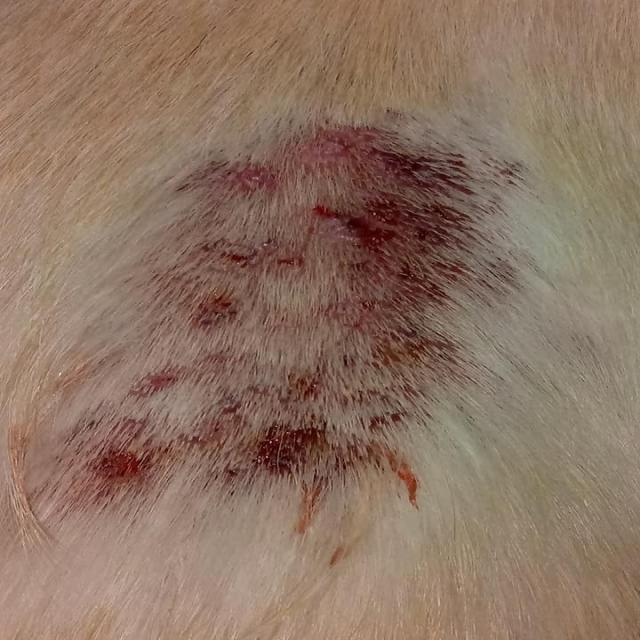allergic dermatitis: (56, 113, 516, 500)
